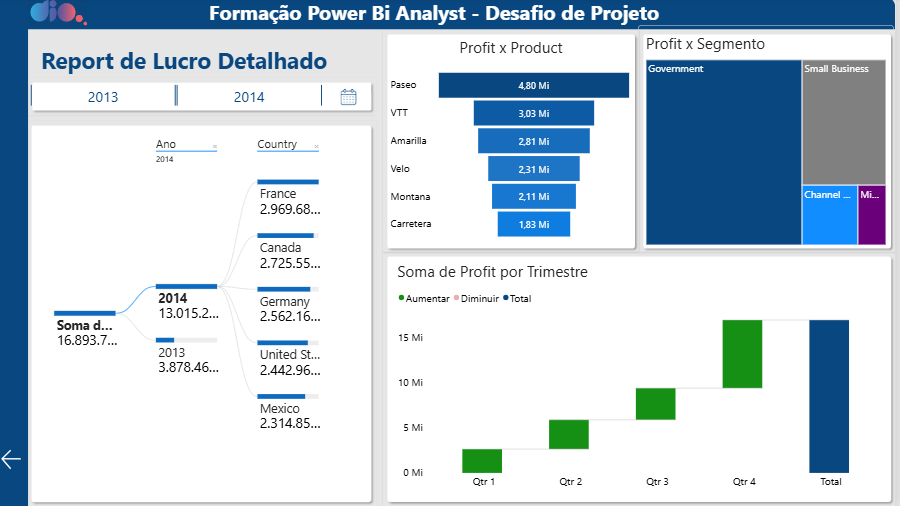

Layout of this report page (visuals, bound fields, positions):
{"tool":"powerbi","page":{"name":"Página 2","canvas":[1920,1080],"ordinal":1},"visuals":[{"type":"shape","box":[73.7,261.2,741.2,819.3],"z":0},{"type":"shape","box":[42.4,0,1877.6,67],"z":1000},{"type":"shape","box":[9.9,0,66.6,1080.9],"z":2000},{"type":"shape","box":[75.9,169.7,739,78.1],"z":3000},{"type":"image","title":"dio","box":[73.6,2.6,130.8,56.8],"z":4000},{"type":"actionButton","box":[10.8,938.5,61.8,86.1],"z":5000},{"type":"textbox","box":[462.1,0,995.7,78.1],"z":6000},{"type":"textbox","box":[104.9,100.5,625.1,82.6],"z":7000},{"type":"slicer","fields":{"Values":["financials.Year"]},"box":[43,182.9,677.6,45.7],"z":8000},{"type":"decompositionTreeVisual","fields":{"Analyze":["Sum(financials.Profit)"],"ExplainBy":["financials.Year","financials.Country"]},"box":[91.5,281.3,701,781.4],"z":9000},{"type":"image","box":[730,192,58,38],"z":10000},{"type":"shape","box":[830.5,540.3,1089.5,540.3],"z":11000},{"type":"shape","box":[830.5,67,544.7,473.3],"z":12000},{"type":"shape","box":[1375.3,67,544.7,473.3],"z":13000},{"type":"funnel","title":"Profit x Product","fields":{"Category":["financials.Product"],"Y":["Sum(financials.Profit)"]},"box":[831.3,68,544.3,476.2],"z":14000},{"type":"treemap","title":"Profit x Segmento","fields":{"Group":["financials.Segment"],"Values":["Sum(financials.Profit)"]},"box":[1374,56.4,544.3,484.7],"z":15000},{"type":"waterfallChart","fields":{"Category":["financials.Date.Variation.Hierarquia de datas.Trimestre"],"Y":["Sum(financials.Profit)"]},"box":[846.1,544.3,1073.6,518.7],"z":16000}]}

Visuals, with their boxes in screenshot pixels (x1, y1, x2, y2), scaled from the page's 1920x1080 canvas onto the 900x506 screenshot:
shape: select_region(35, 122, 382, 505)
shape: select_region(20, 0, 899, 31)
shape: select_region(5, 0, 36, 505)
shape: select_region(36, 80, 382, 116)
"dio" image: select_region(34, 1, 96, 28)
actionButton: select_region(5, 440, 34, 480)
textbox: select_region(217, 0, 683, 37)
textbox: select_region(49, 47, 342, 86)
slicer - financials.Year: select_region(20, 86, 338, 107)
decompositionTreeVisual - Sum(financials.Profit) x financials.Year: select_region(43, 132, 371, 498)
image: select_region(342, 90, 369, 108)
shape: select_region(389, 253, 899, 505)
shape: select_region(389, 31, 645, 253)
shape: select_region(645, 31, 899, 253)
"Profit x Product" funnel: select_region(390, 32, 645, 255)
"Profit x Segmento" treemap: select_region(644, 26, 899, 254)
waterfallChart - financials.Date.Variation.Hierarquia de datas.Trimestre x Sum(financials.Profit): select_region(397, 255, 899, 498)
